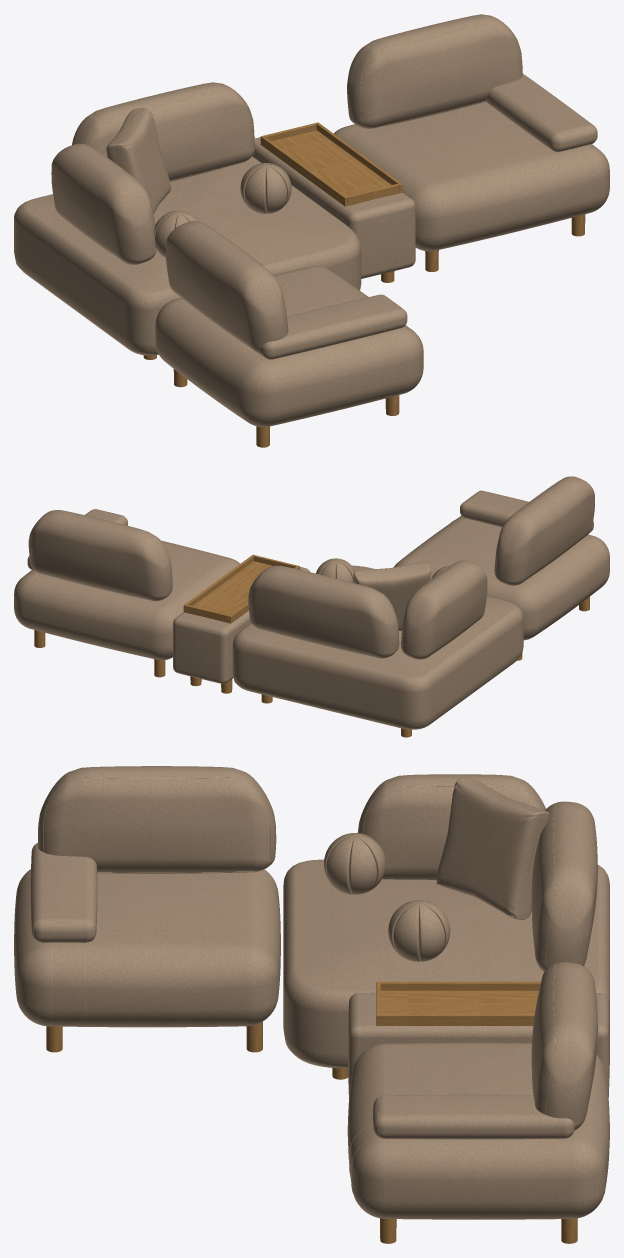
Rendered from chaise.glb.
3 views of the same model, one above another, from view 1: azimuth 30°, elevation 25°; view 2: azimuth 150°, elevation 25°; view 3: azimuth 270°, elevation 25° (orthographic). The views are drawn at different scales.
Visible parts, largest first — view 1: fabric (×2), pillows, accent, legs; view 2: fabric (×2), accent, pillows, legs; view 3: fabric (×2), pillows, accent, legs.
Boxes of the visible parts, box(x1,y1,x2,y2) form: fabric (×2): box(14, 14, 609, 427); pillows: box(106, 107, 291, 257); accent: box(260, 122, 402, 206); legs: box(143, 214, 585, 447); fabric (×2): box(14, 476, 609, 729); accent: box(183, 554, 299, 623); pillows: box(316, 558, 449, 630); legs: box(34, 597, 589, 737); fabric (×2): box(14, 766, 609, 1219); pillows: box(324, 777, 549, 961); accent: box(376, 981, 540, 1025); legs: box(46, 1021, 577, 1243).
Bounding box in the file's own units: 3 × 0.9676 × 2.5.
Materials: 3 (2 with a texture image).
